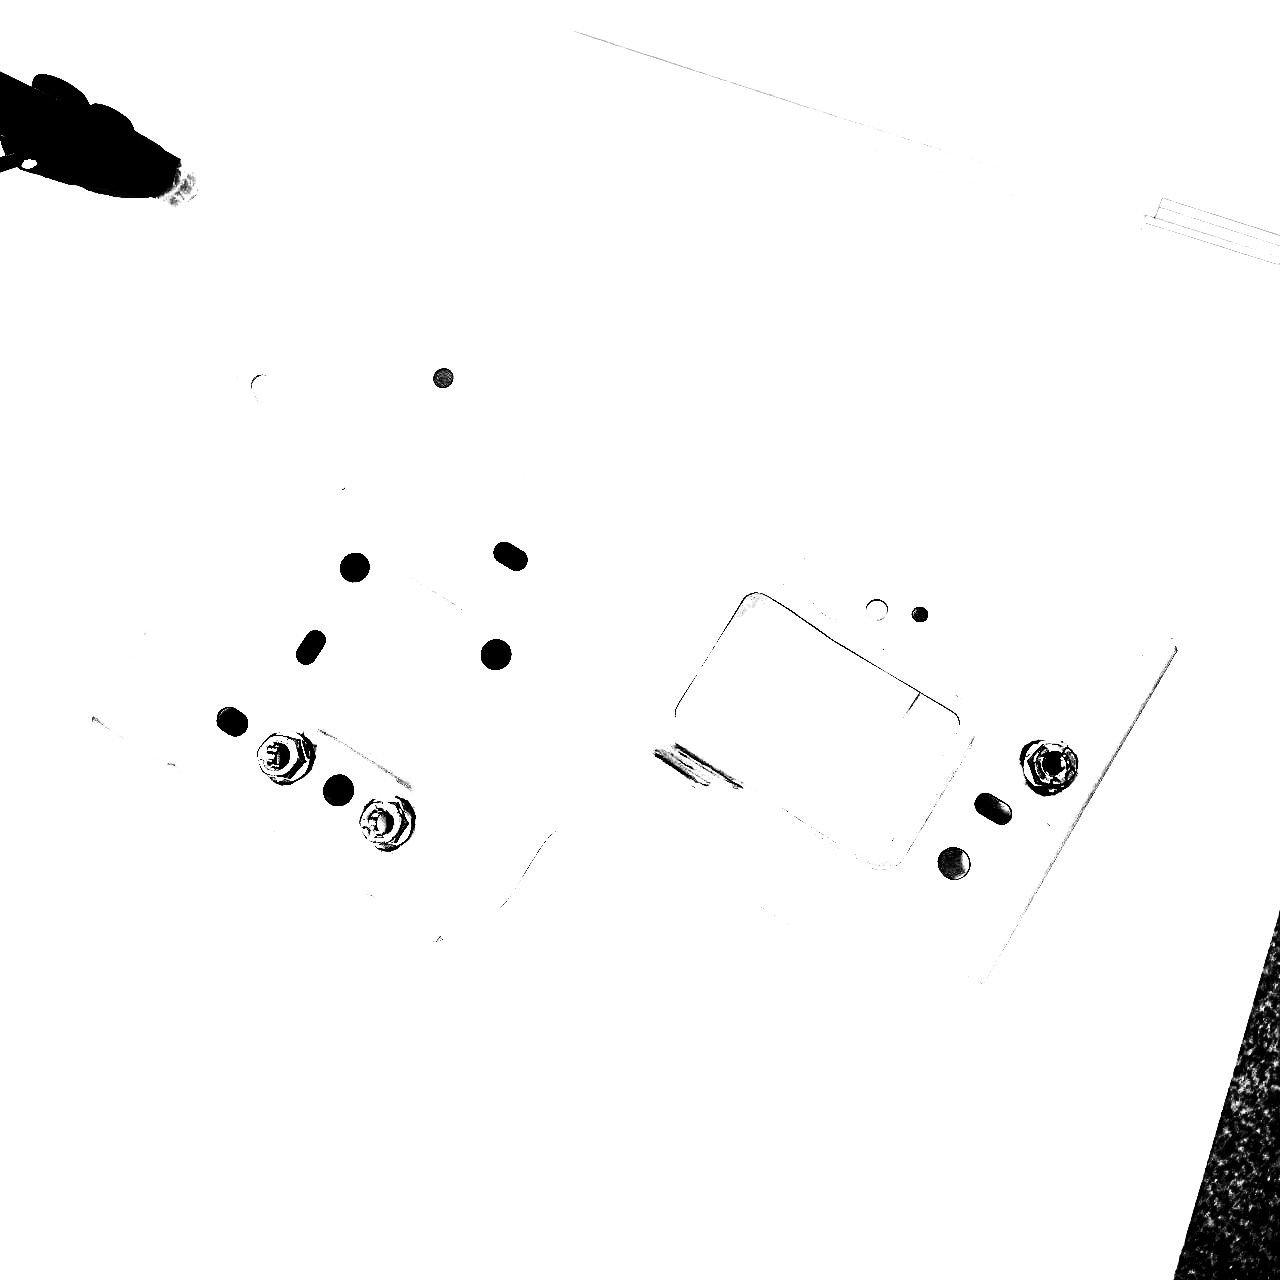dog: (1012, 734, 1082, 799), (252, 724, 320, 788), (356, 788, 420, 856)
